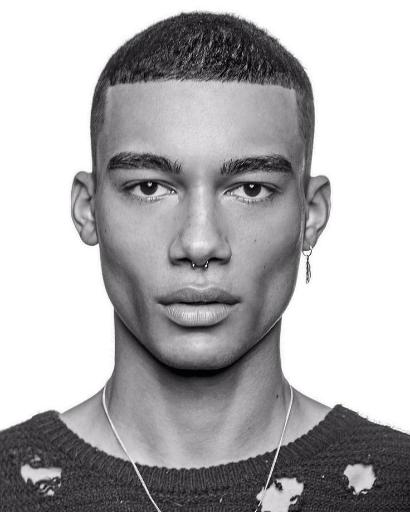left_eye: (224, 180, 282, 210)
left_lip_corner: (232, 296, 248, 312)
right_eye: (119, 178, 179, 206)
right_lip_corner: (153, 296, 171, 315)
